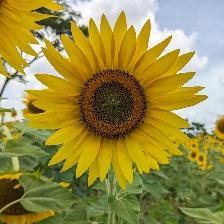sunflower: (24, 12, 210, 191)
